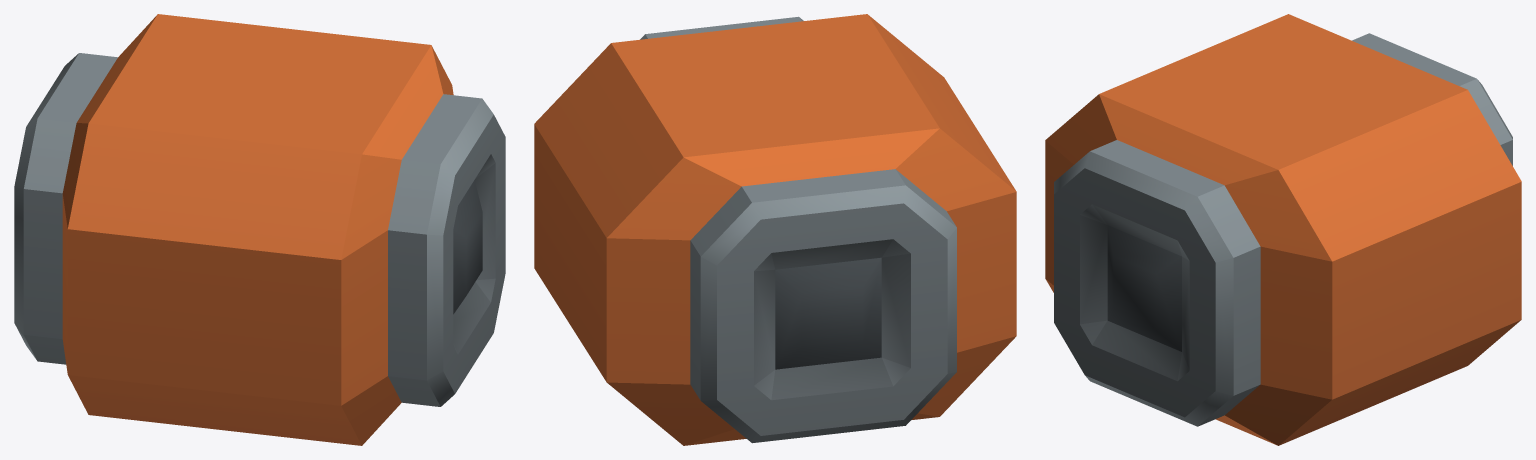
File: tunnel_diagonal_short_b.glb
The picture shows the model from 3 angles, left to right: view 1: azimuth 30°, elevation 25°; view 2: azimuth 150°, elevation 25°; view 3: azimuth 270°, elevation 25°; orthographic projection. The views are drawn at different scales.
Parts seen in each view (by area): view 1: tunnel_diagonal_short_B; view 2: tunnel_diagonal_short_B; view 3: tunnel_diagonal_short_B.
Part boxes in pixels (x1,y1,x2,y2): tunnel_diagonal_short_B: (14,14,505,445); tunnel_diagonal_short_B: (534,14,1016,445); tunnel_diagonal_short_B: (1045,14,1521,445).
Bounding box in the file's own units: 2.82 × 1.8 × 2.82.
1 material, 1 textured.
